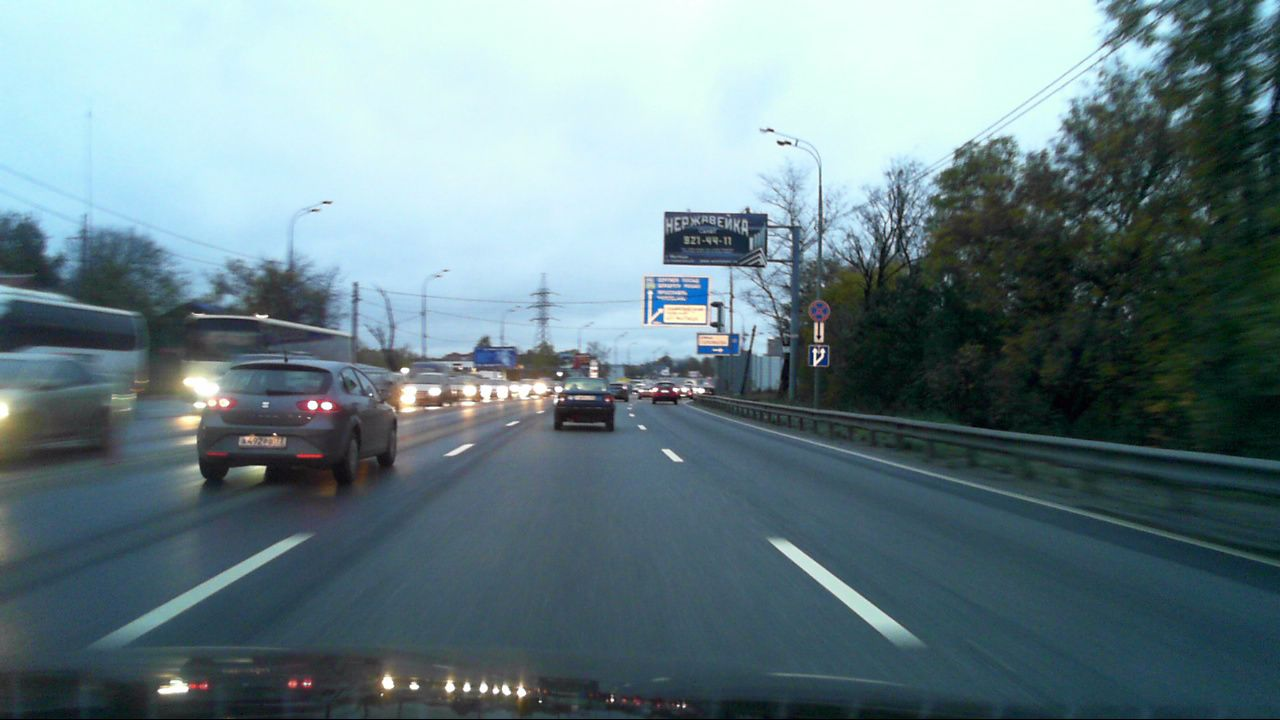No Parking: (807, 300, 829, 321)
